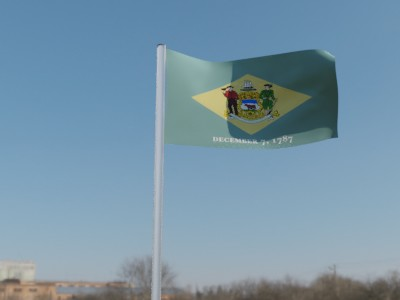Delaware flag: (166, 47, 341, 147)
